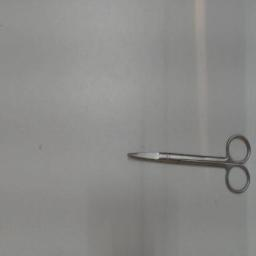Curved Mayo Scissors: (126, 130, 254, 198)
